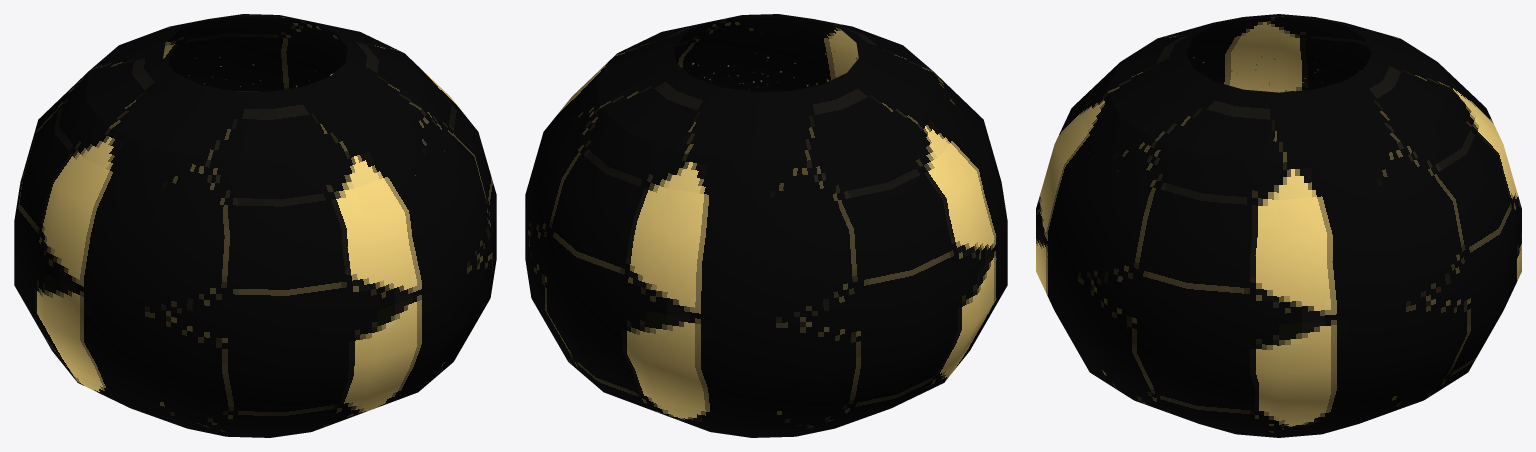
Rendered from bonus_main.fbx.
3 renders of one model, left to right at view 1: azimuth 30°, elevation 25°; view 2: azimuth 150°, elevation 25°; view 3: azimuth 270°, elevation 25°, orthographic.
Visible parts, largest first — view 1: BNS_MAIN; view 2: BNS_MAIN; view 3: BNS_MAIN.
Part boxes in pixels (left/top/right/bottom): BNS_MAIN: left=14, top=14, right=496, bottom=437; BNS_MAIN: left=525, top=14, right=1007, bottom=437; BNS_MAIN: left=1036, top=14, right=1521, bottom=437.
Bounding box in the file's own units: 147704 × 116444 × 147704.
